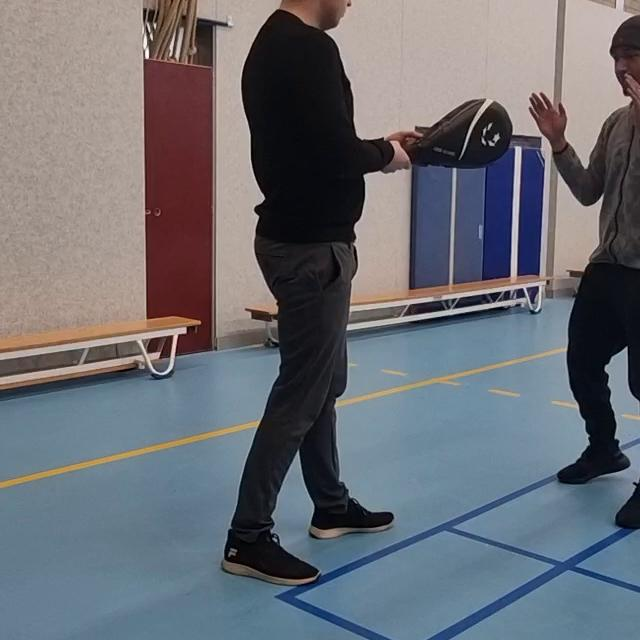paddle: (398, 97, 515, 172)
